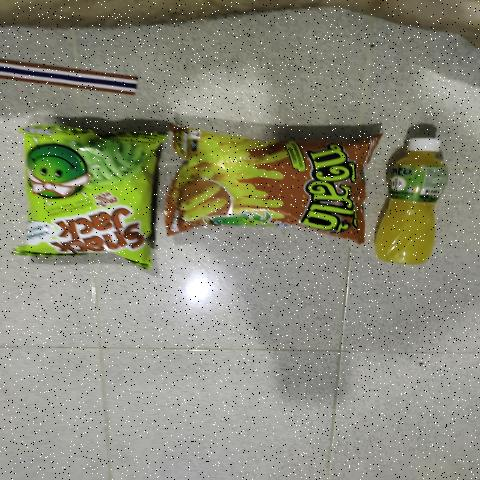snack_jack: (27, 116, 154, 262)
twisco: (181, 134, 365, 235)
